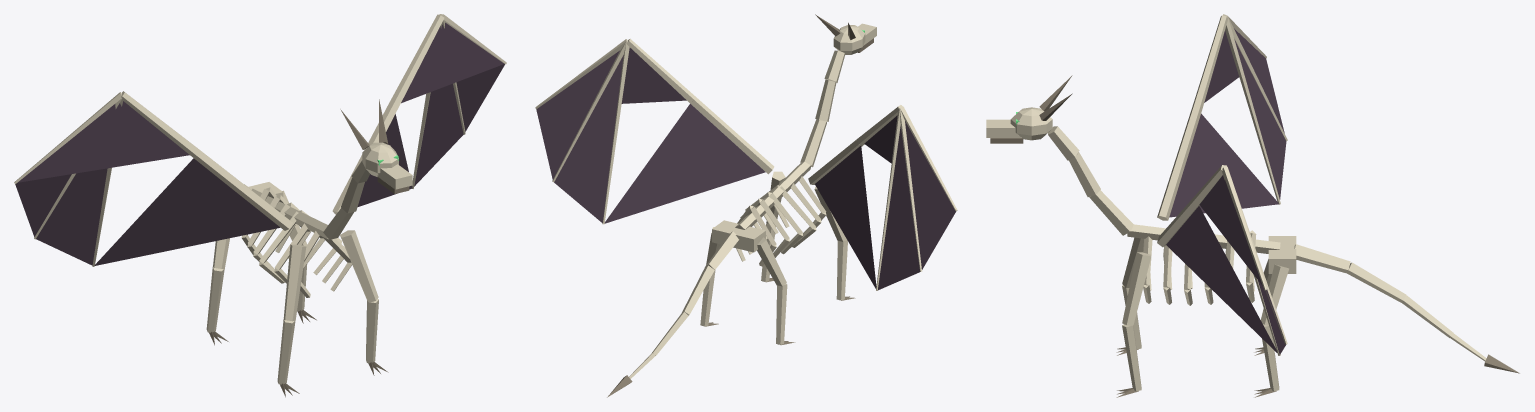
Rendered from knochendrache.glb.
3 views of the same model, side by side, from view 1: azimuth 30°, elevation 25°; view 2: azimuth 150°, elevation 25°; view 3: azimuth 270°, elevation 25° (orthographic). The views are drawn at different scales.
Size of the model in its own units: 4.01 by 2.32 by 3.88.
Materials: 1 (1 with a texture image).
